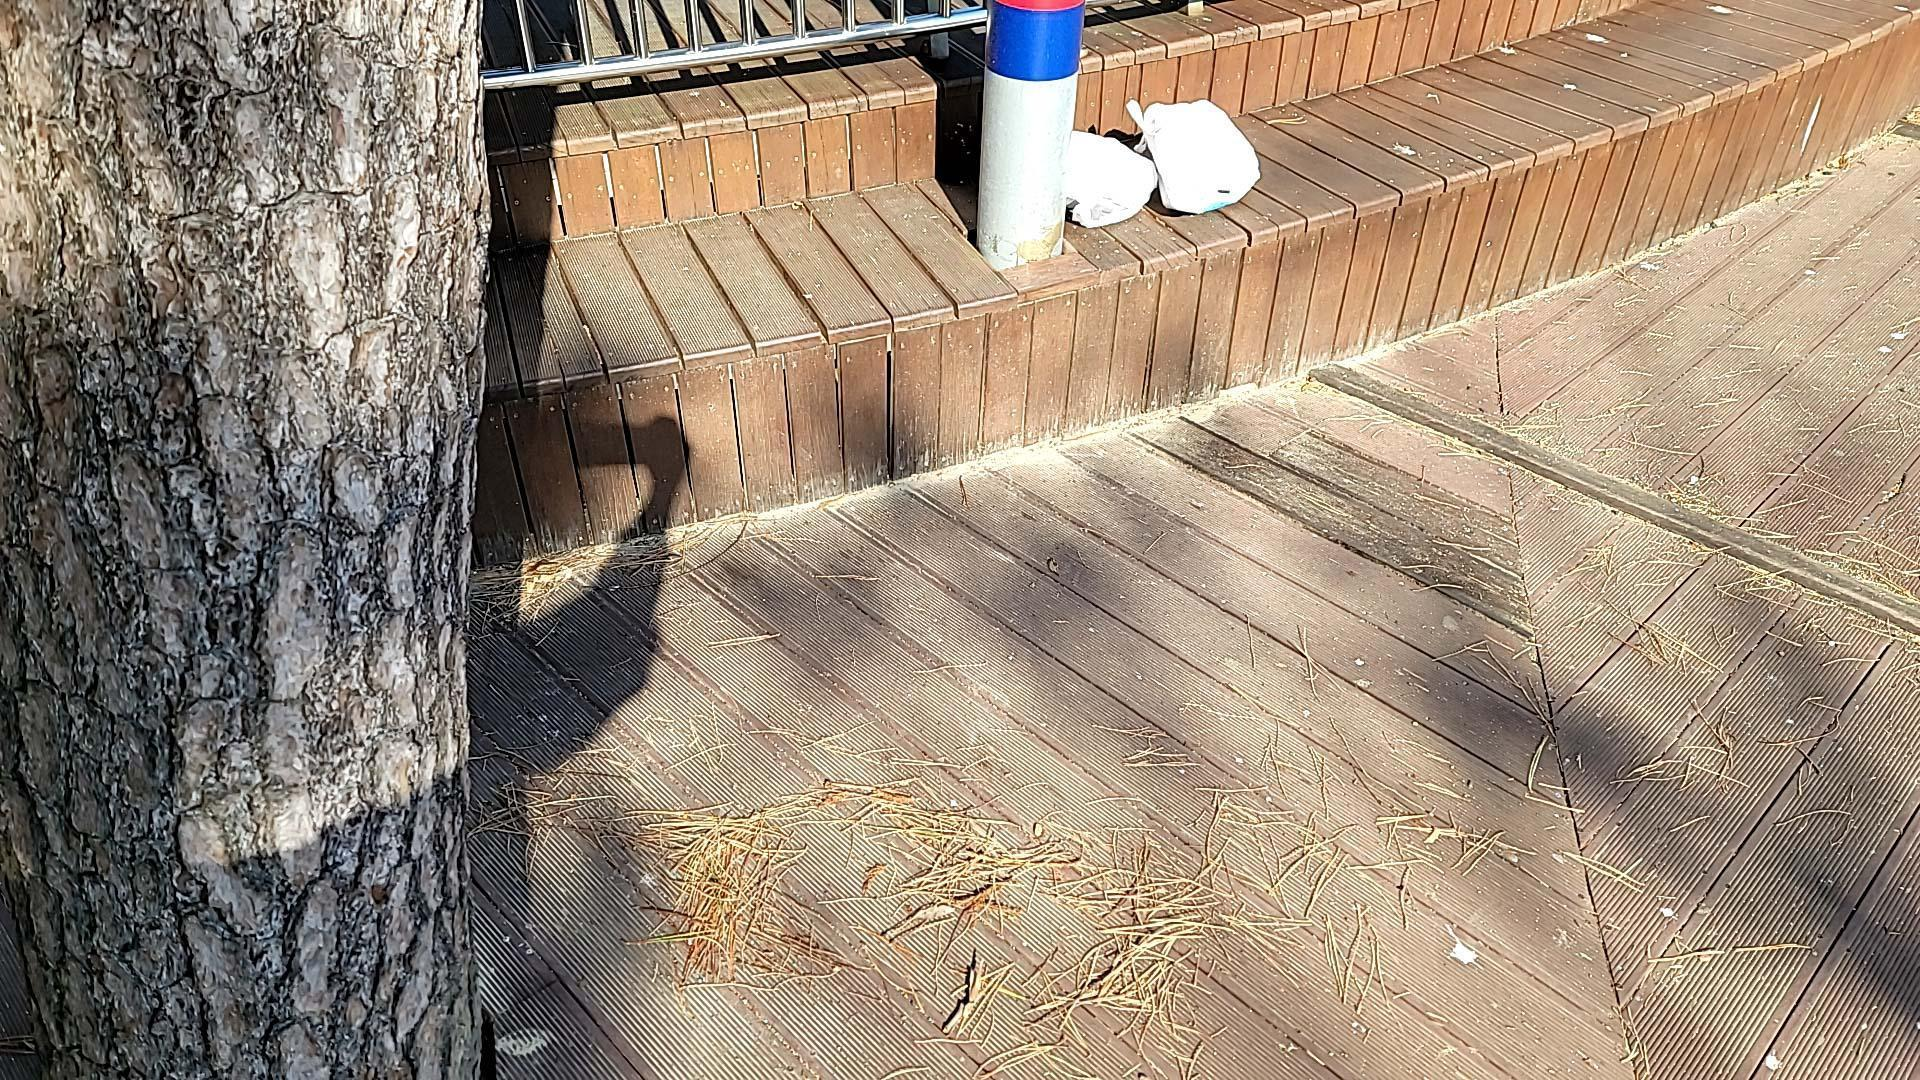white_bag: (1124, 91, 1265, 218), (1055, 125, 1160, 229)
